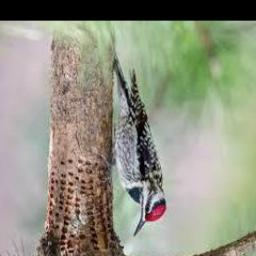Woodpecker: (111, 55, 165, 238)
